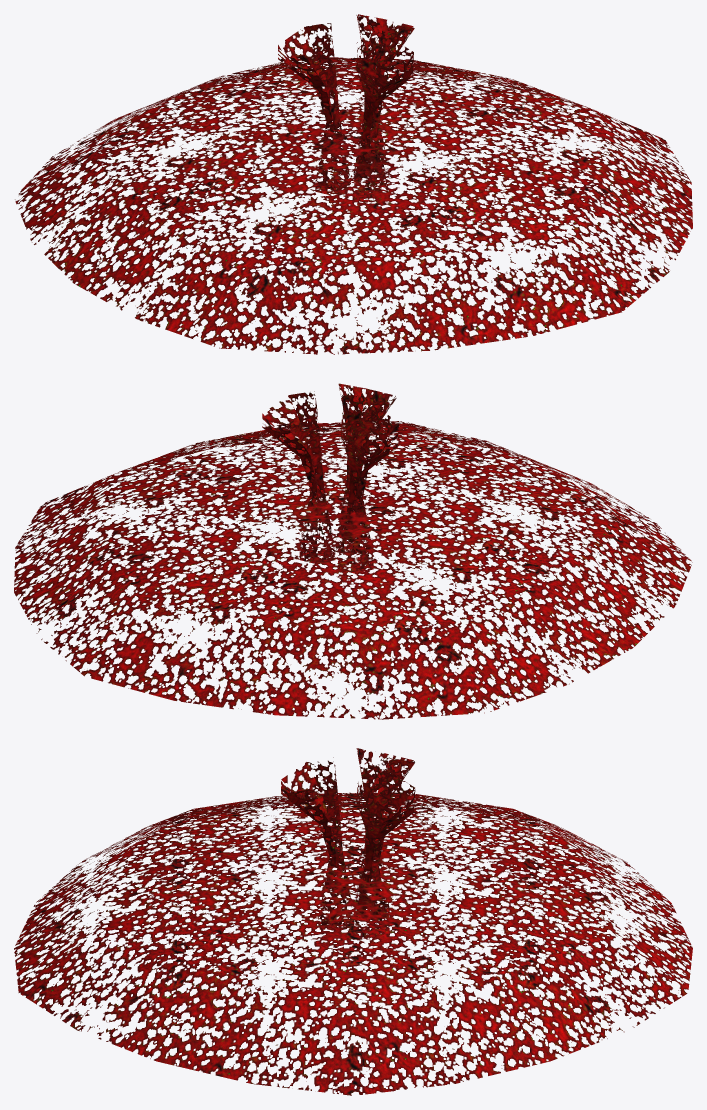
Rendered from mopuff01.FBX.
3 renders of one model, top to bottom at view 1: azimuth 30°, elevation 25°; view 2: azimuth 150°, elevation 25°; view 3: azimuth 270°, elevation 25°, orthographic.
Visible parts, largest first — view 1: mopuff__2; view 2: mopuff__2; view 3: mopuff__2.
Part boxes in pixels (x1,y1,x2,y2): mopuff__2: [15, 14, 692, 354]; mopuff__2: [14, 383, 692, 719]; mopuff__2: [14, 748, 692, 1095].
Size of the model in its own units: 19.52 by 19.3 by 5.74.
